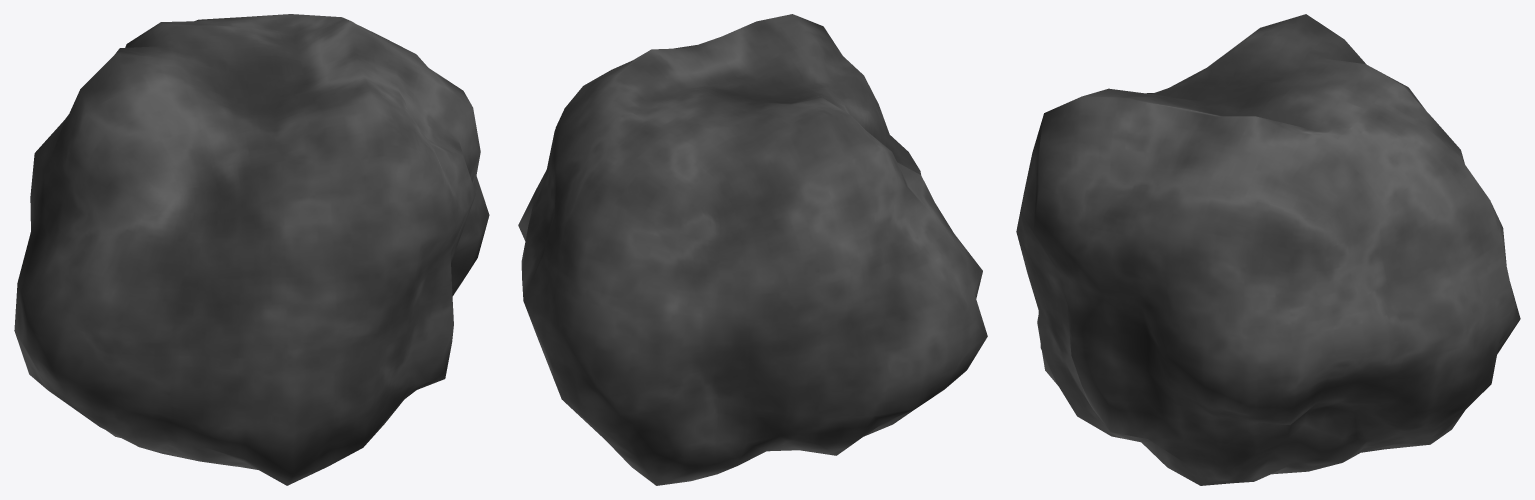
Rendered from Stone.obj.
3 renders of one model, left to right at view 1: azimuth 30°, elevation 25°; view 2: azimuth 150°, elevation 25°; view 3: azimuth 270°, elevation 25°, orthographic. The views are drawn at different scales.
Parts seen in each view (by area): view 1: BoulderPlainLarge; view 2: BoulderPlainLarge; view 3: BoulderPlainLarge.
Boxes of the visible parts, x1,y1,x2,y2 form: BoulderPlainLarge: (14, 14, 489, 485); BoulderPlainLarge: (518, 14, 987, 485); BoulderPlainLarge: (1016, 14, 1520, 485).
Bounding box in the file's own units: 3.58 × 2.89 × 3.47.
